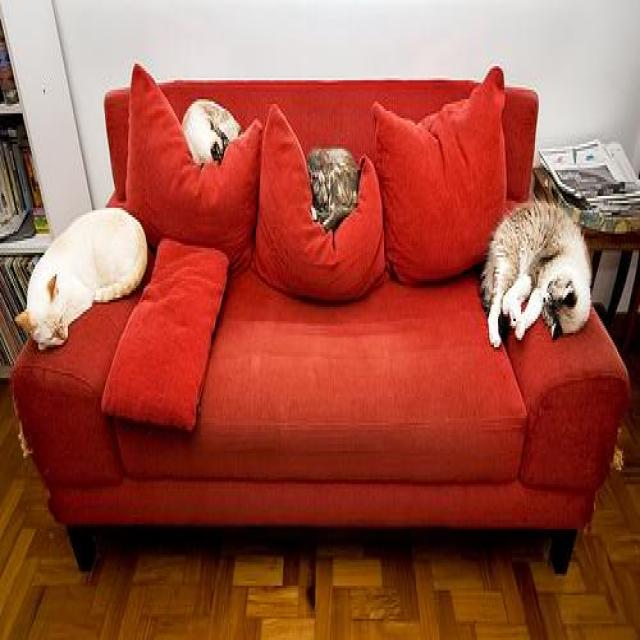sofa: (6, 61, 630, 584)
